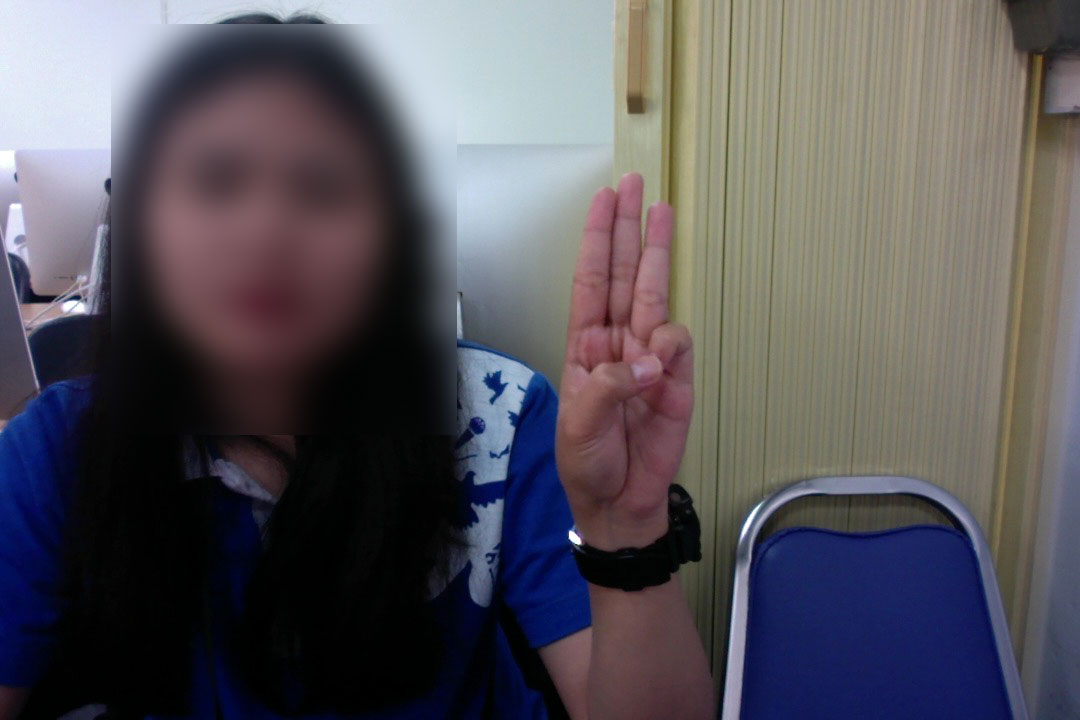wor: (541, 164, 717, 534)
